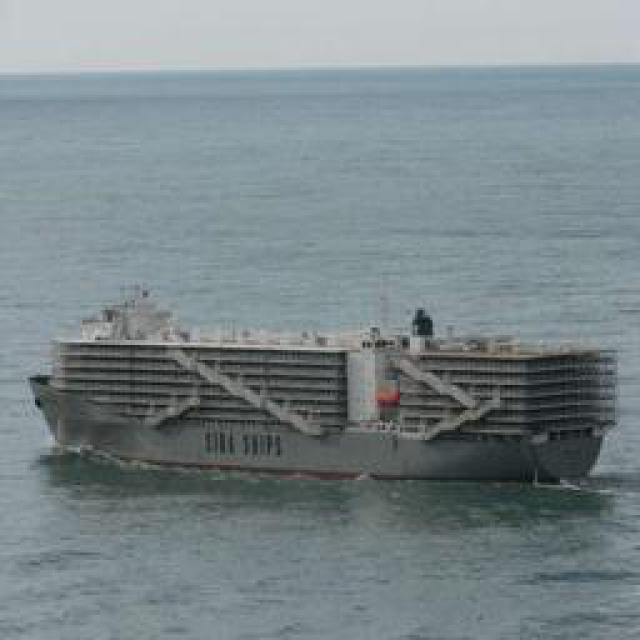Ship: (22, 311, 625, 486)
